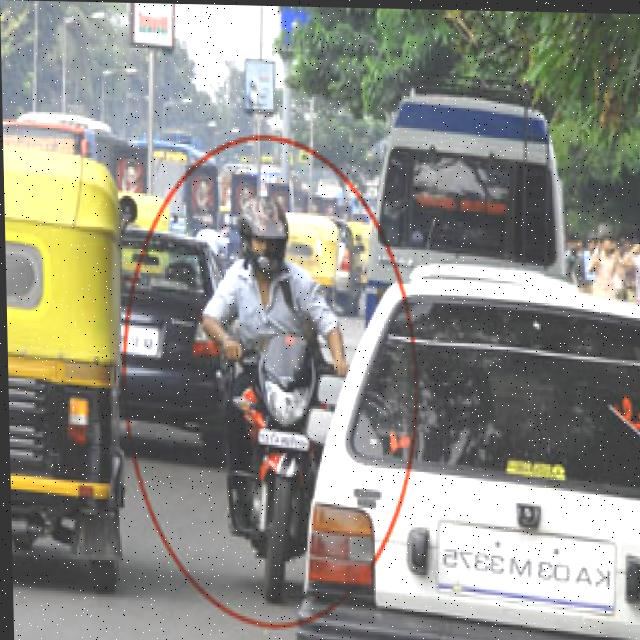plate: (432, 513, 616, 611), (253, 422, 308, 452)
